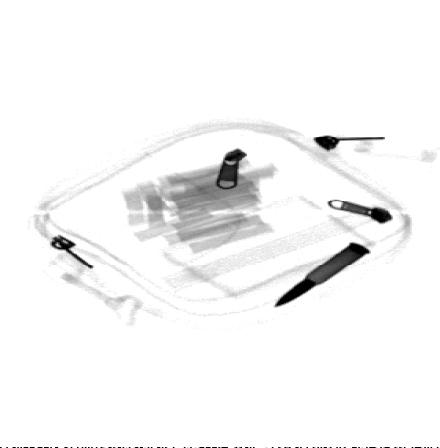Bullet: (271, 241, 373, 309)
